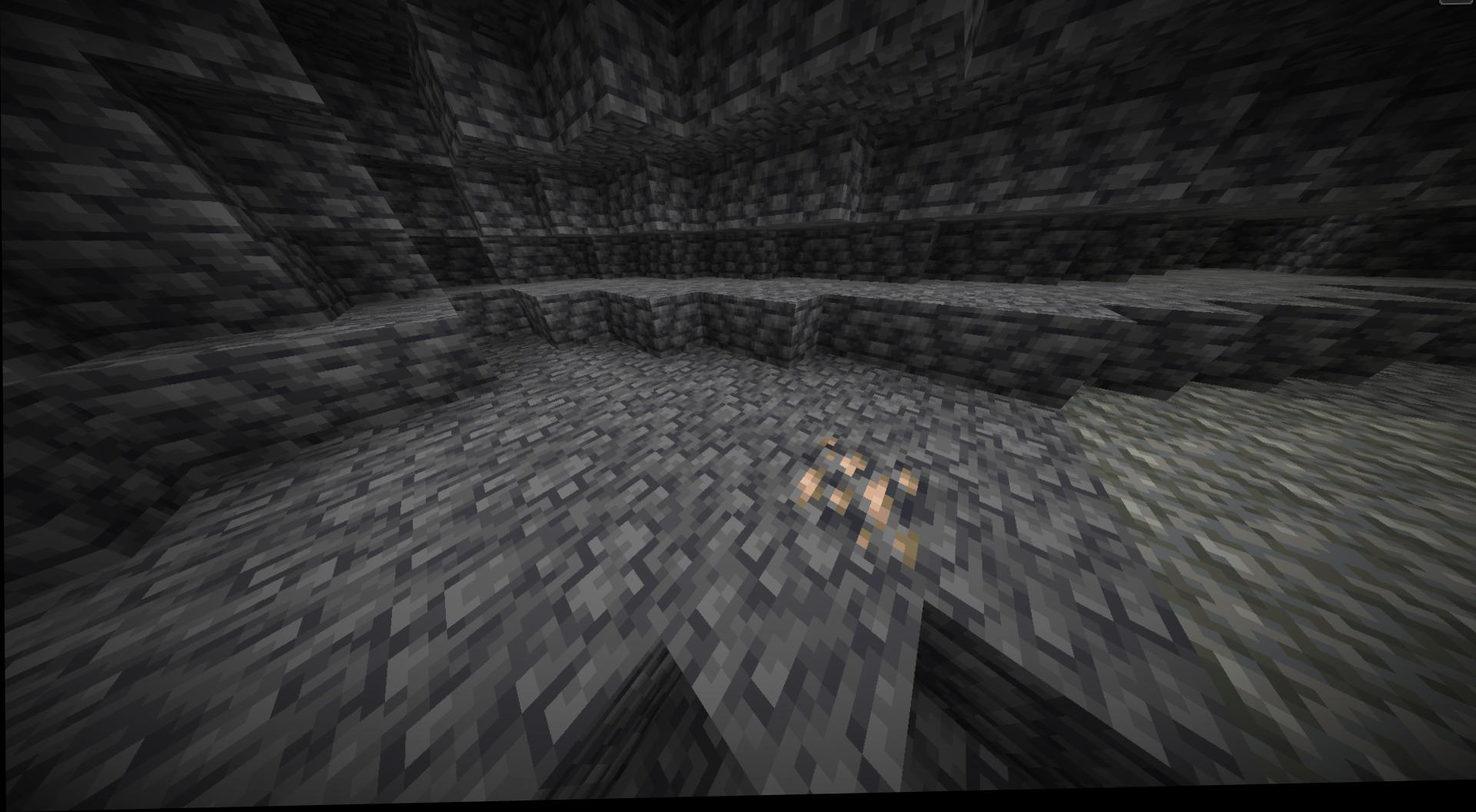iron ore: (787, 439, 936, 571)
